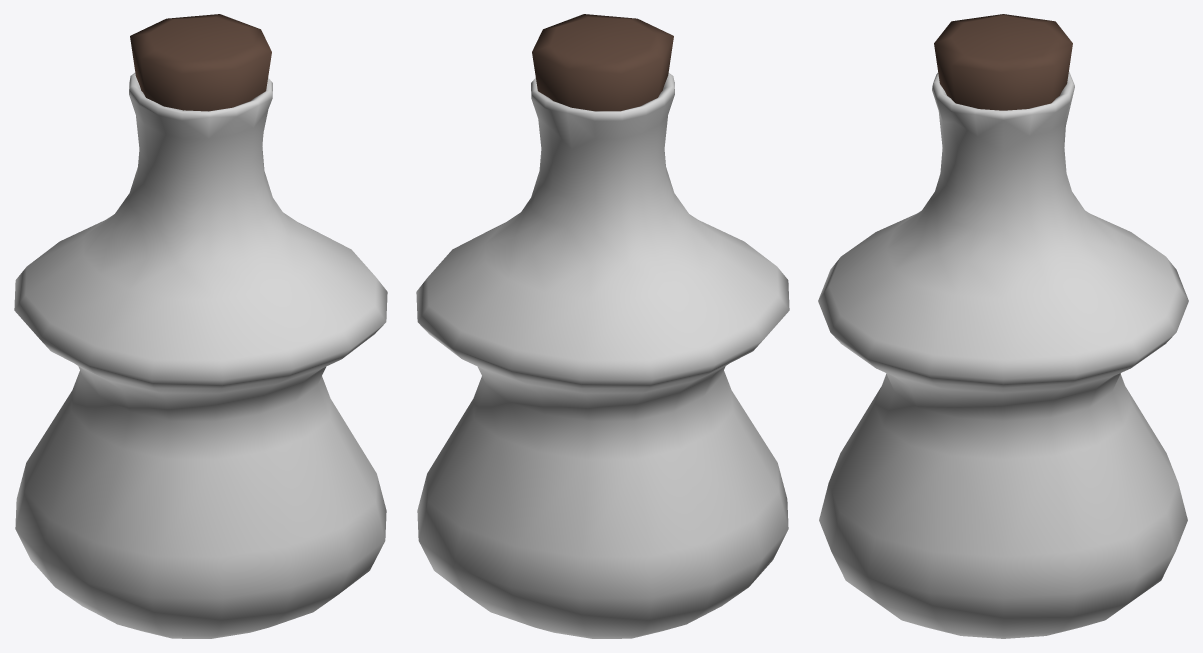
Rendered from Potion5_Filled.glb.
The picture shows the model from 3 angles, left to right: view 1: azimuth 30°, elevation 25°; view 2: azimuth 150°, elevation 25°; view 3: azimuth 270°, elevation 25°; orthographic projection.
Visible parts, largest first — view 1: Potion5_Filled; view 2: Potion5_Filled; view 3: Potion5_Filled.
Part boxes in pixels (<box>): Potion5_Filled: <box>14,14,387,638</box>; Potion5_Filled: <box>416,14,789,638</box>; Potion5_Filled: <box>818,14,1188,638</box>.
Size of the model in its own units: 0.7081 by 1.23 by 0.7081.
